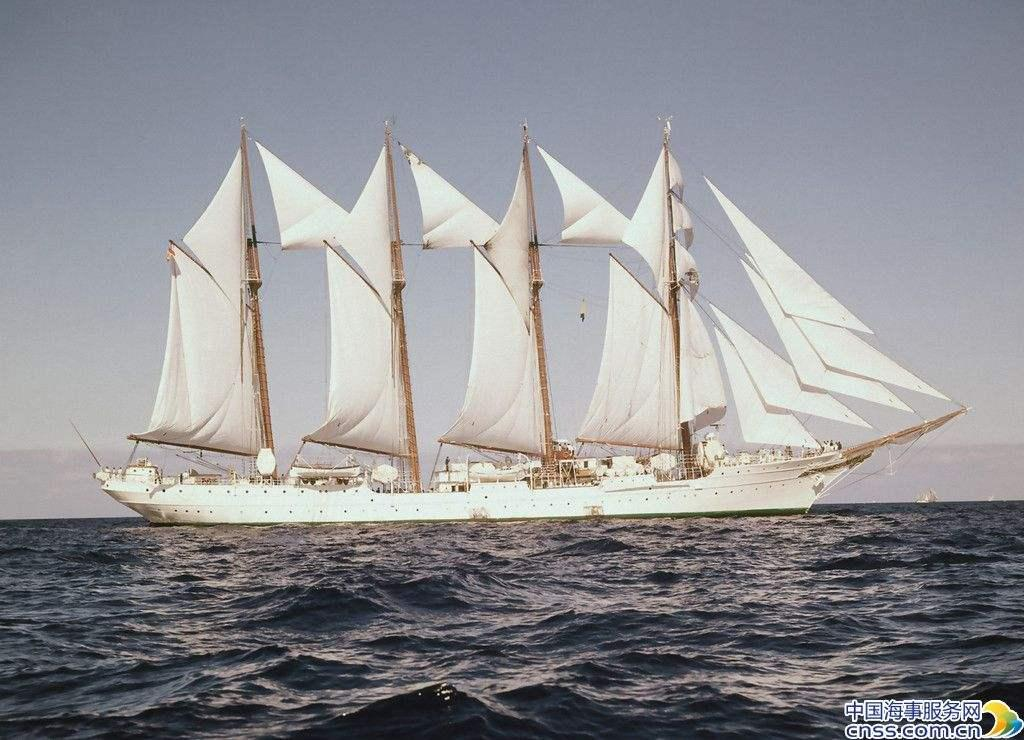fanchuan: (78, 93, 969, 527)
